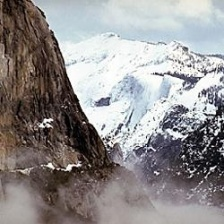neutral: (1, 3, 224, 215)
